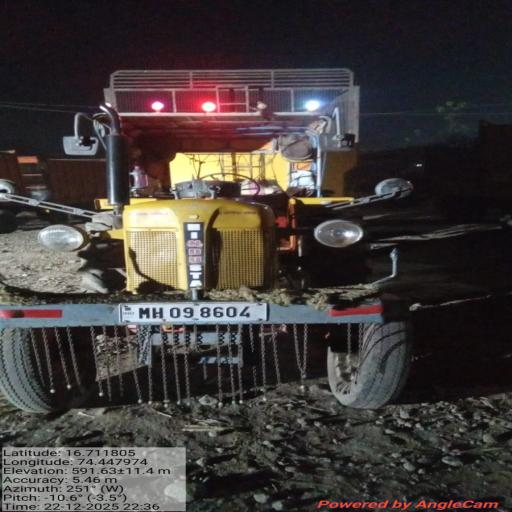number_plate: (117, 298, 276, 330)
